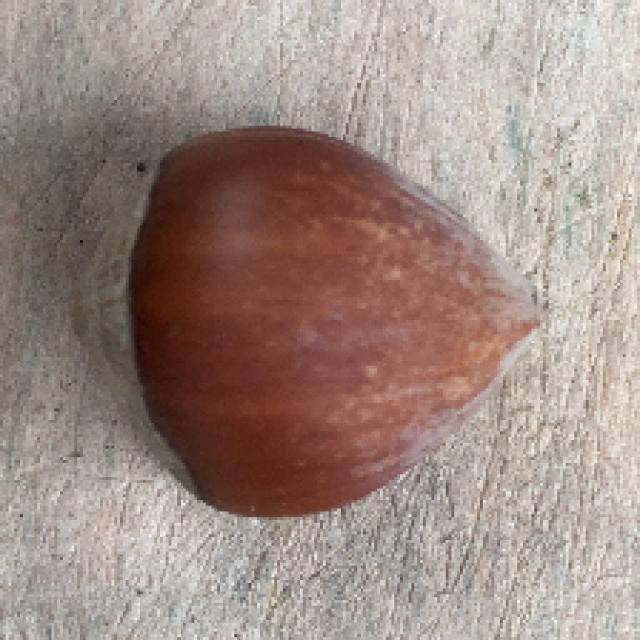QualityHazelnut: (76, 126, 547, 519)
